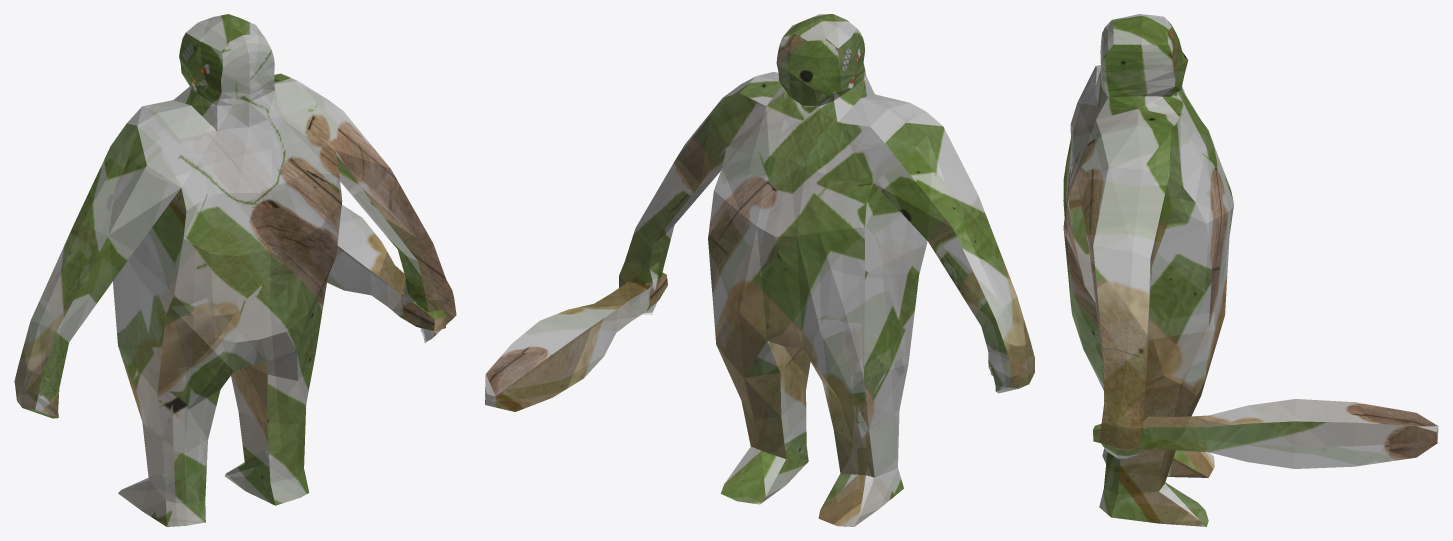
File: Enemigo228.obj
The picture shows the model from 3 angles, left to right: view 1: azimuth 30°, elevation 25°; view 2: azimuth 150°, elevation 25°; view 3: azimuth 270°, elevation 25°; orthographic projection. The views are drawn at different scales.
Visible parts, largest first — view 1: Cube; view 2: Cube; view 3: Cube.
Boxes of the visible parts, x1,y1,x2,y2 form: Cube: (14, 14, 456, 526); Cube: (485, 14, 1034, 526); Cube: (1063, 14, 1438, 526).
Bounding box in the file's own units: 2.53 × 2.79 × 1.97.
